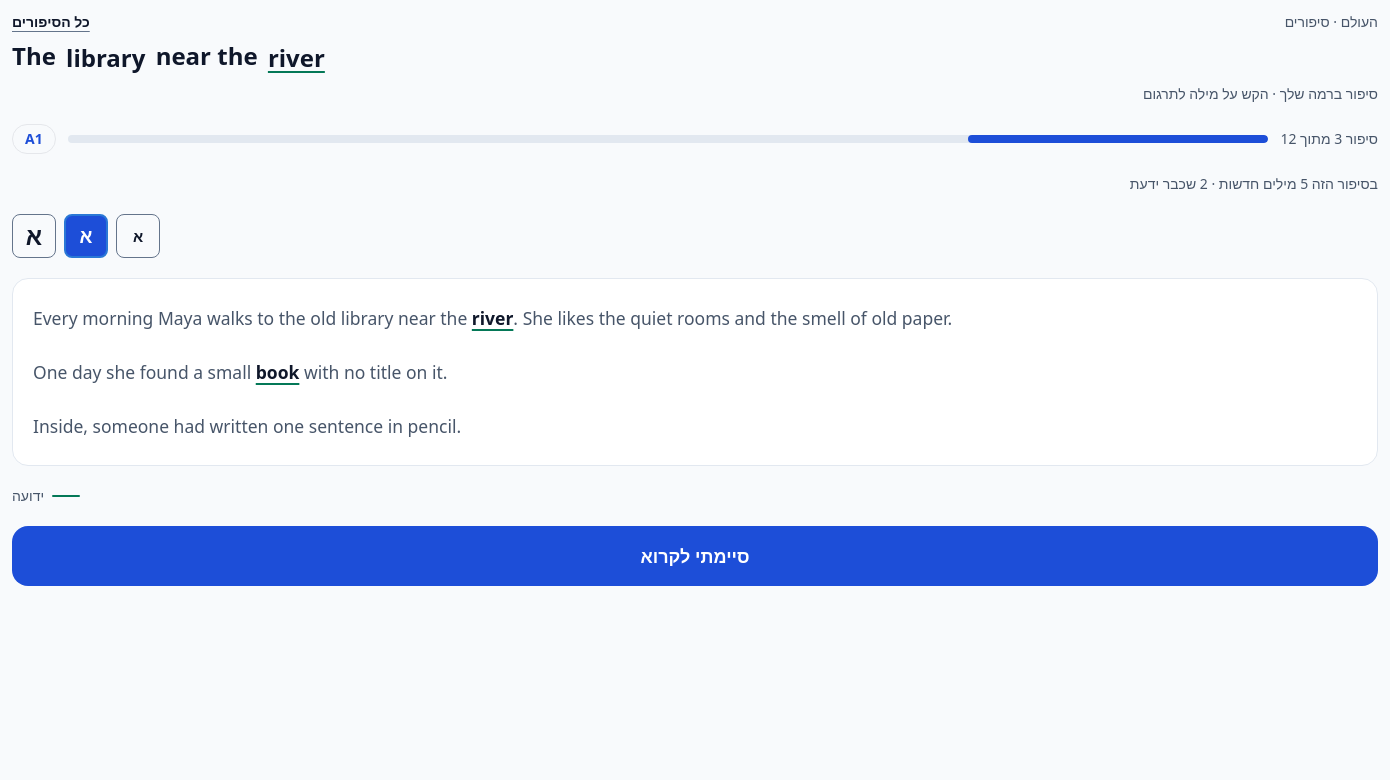
Test: T-202 — the question is a STATE, and the chrome survives the swap › one press on the primary action swaps the BODY and ⛔ keeps the chrome
This screenshot has width=1390, height=780.
Click the button "סיימתי לקרוא" at (695, 556), box [12,526,1378,586]
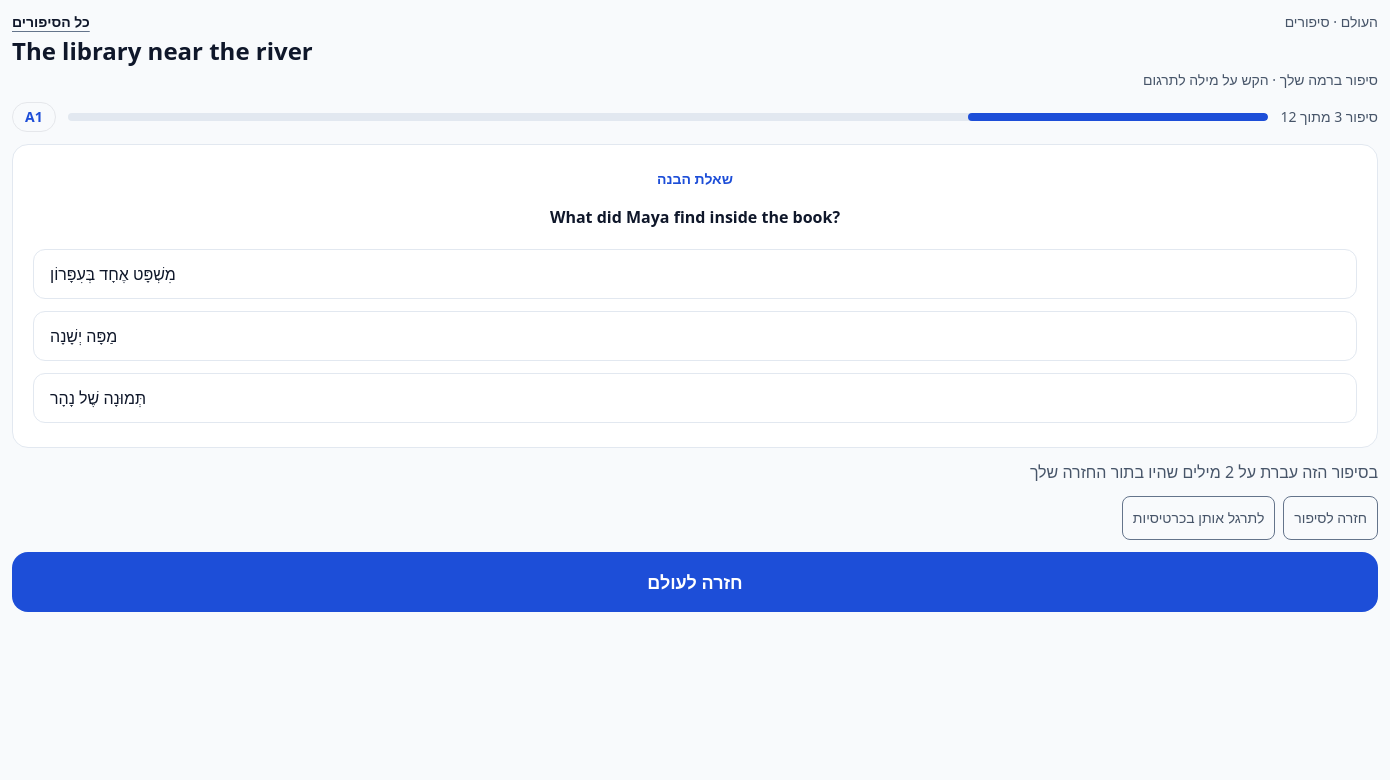
Check: the text "סיפור 3 מתוך 12" is shown, box [1280,107,1378,127]
Check: the text "שאלת הבנה" is shown, box [657,169,733,188]
